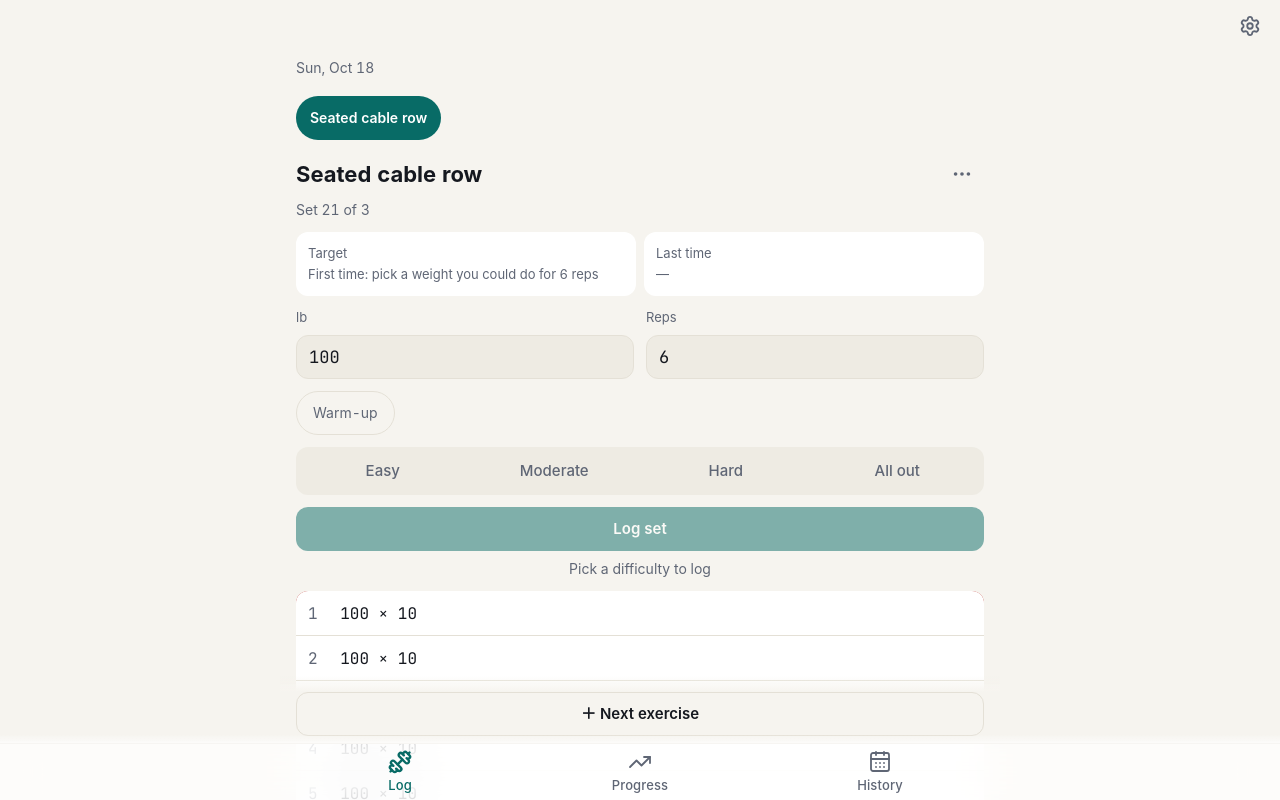
Test: next-exercise picker › says so when every trained muscle is on track
The width and height of the screenshot is (1280, 800).
Step 1. Click the button "＋ Next exercise" → point(640, 714), box [296,692,984,736]
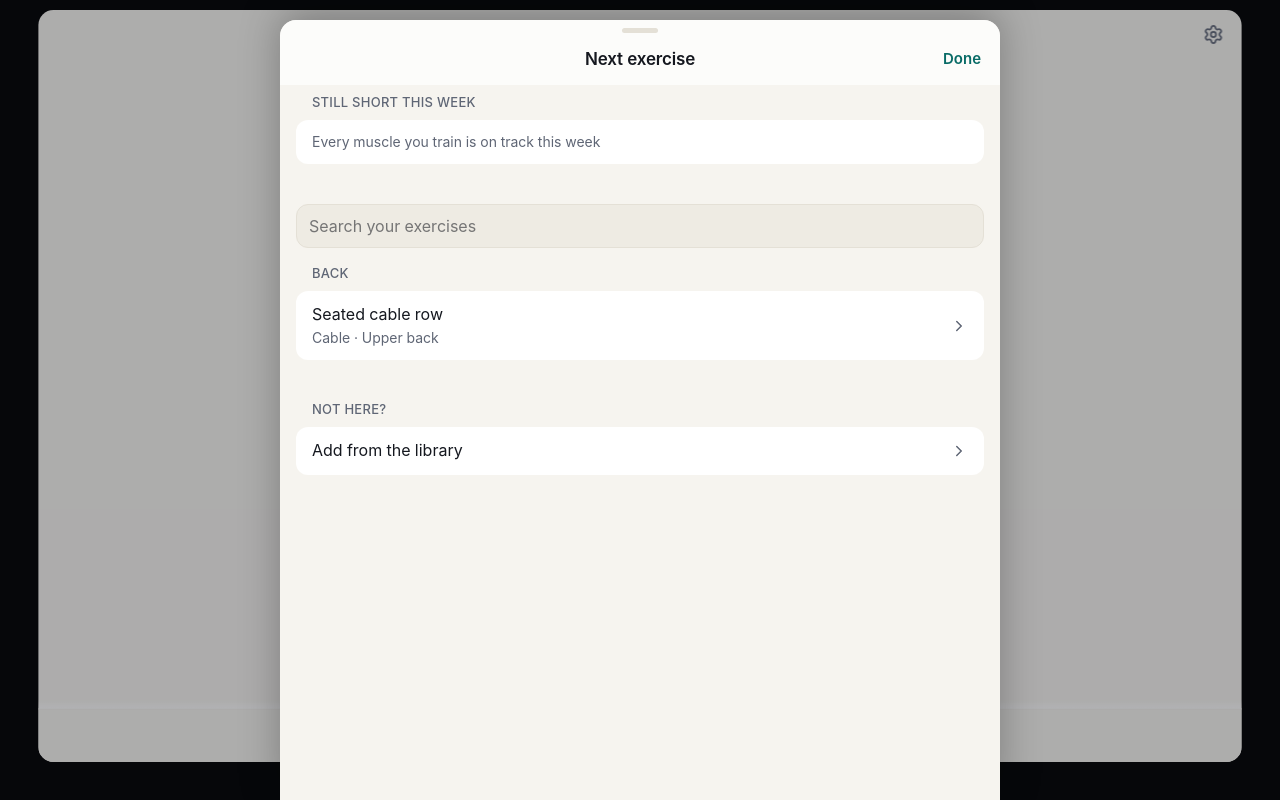
Result: the dialog "Next exercise" is shown at [280,20,1000,799]
Result: the text "Every muscle you train is on track this week" is shown at [312,133,600,150]
